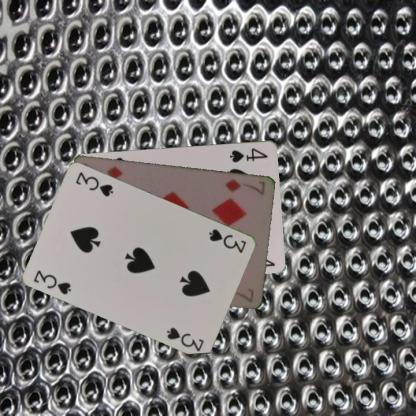3s: (31, 267, 74, 296), (206, 226, 248, 254)
4s: (227, 145, 269, 164)
7d: (223, 176, 266, 197)
